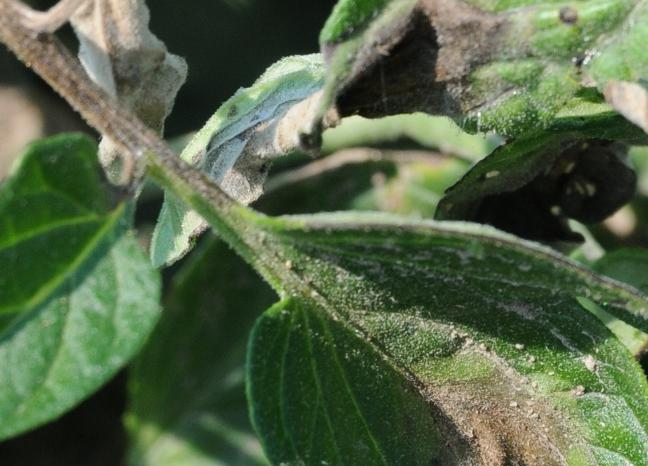Tomato leaf late blight: (237, 206, 648, 466), (333, 0, 648, 178)
